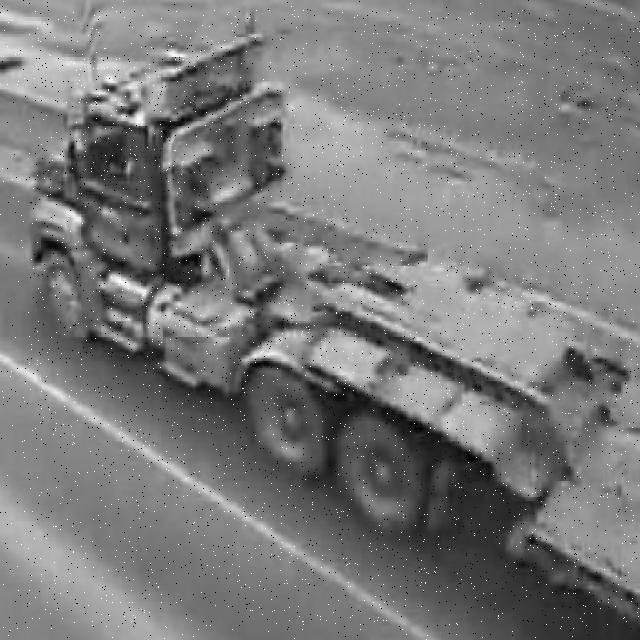Tractor Trailer: (28, 10, 640, 628)
